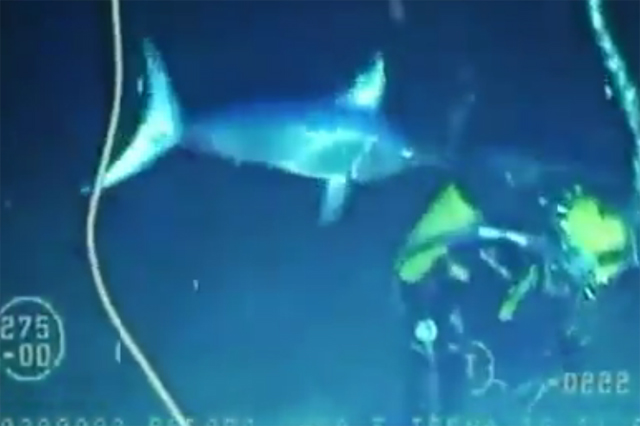swordfish: (97, 42, 470, 227)
